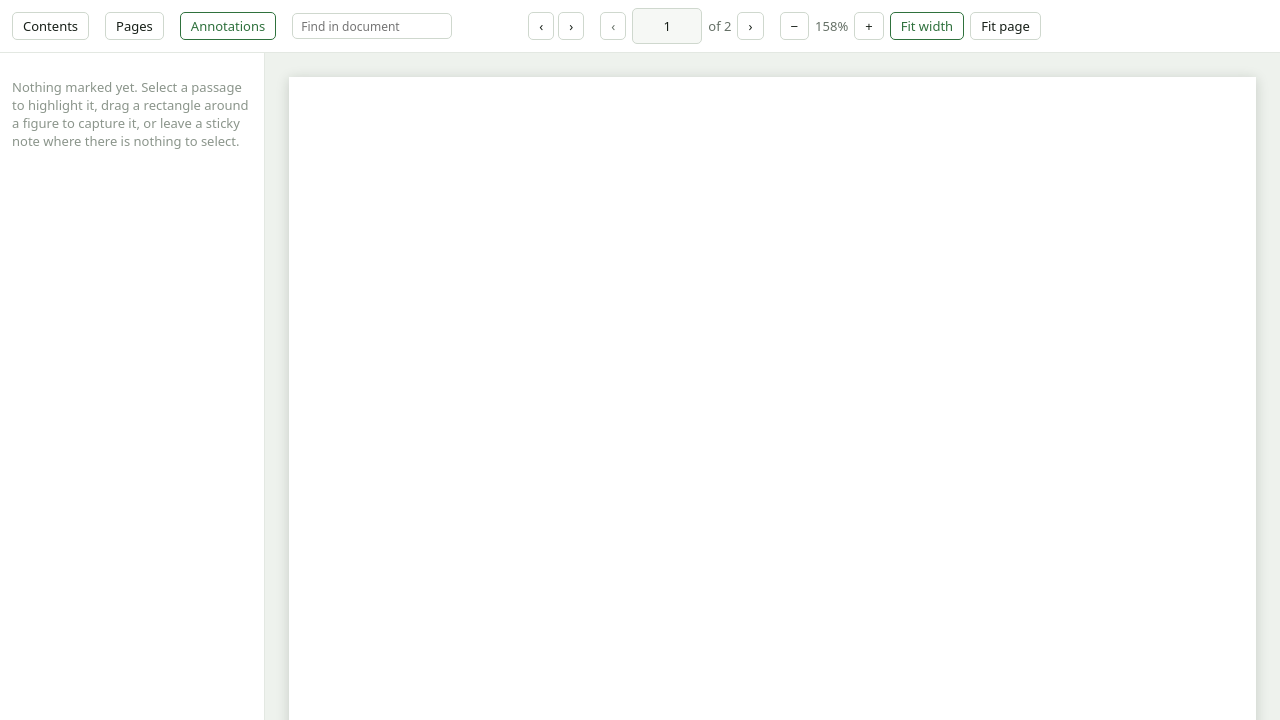
finding words in a document › counts the matches and says where you are among them
Expected: the text "of 2" is shown, x1=708 y1=17 x2=732 y2=35
Type "ribosome" into the search field labelled "Find in document" at (372, 26), box x1=292 y1=13 x2=452 y2=39
Then press Enter
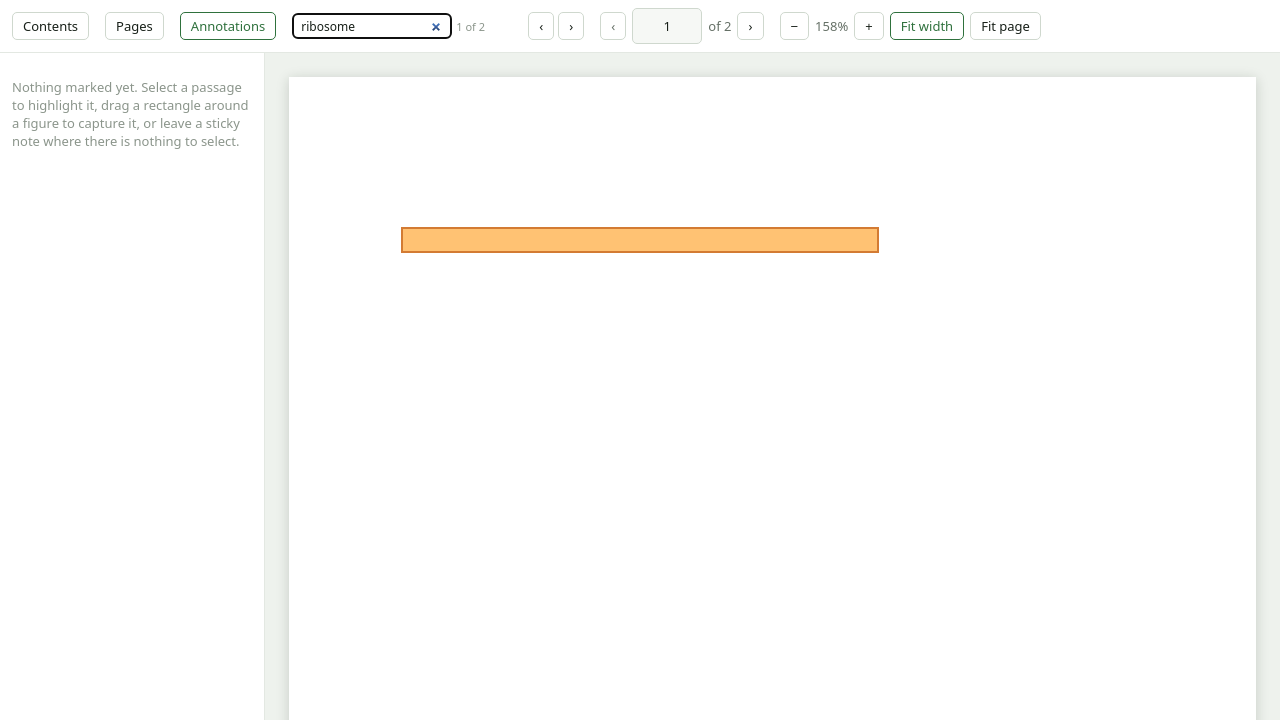
Result: the text "1 of 2" is shown at x1=456 y1=18 x2=485 y2=34
